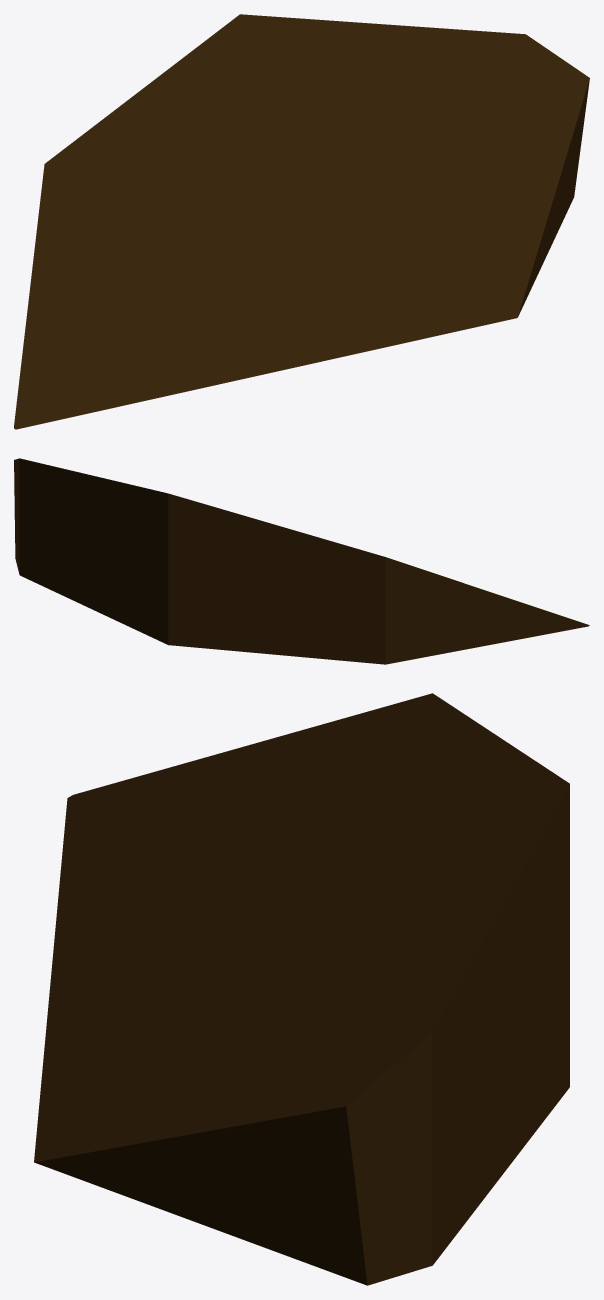
The model's file is Debris8.glb.
3 views of the same model, one above another, from view 1: azimuth 30°, elevation 25°; view 2: azimuth 150°, elevation 25°; view 3: azimuth 270°, elevation 25° (orthographic). The views are drawn at different scales.
Parts seen in each view (by area): view 1: Cylinder_cell.016; view 2: Cylinder_cell.016; view 3: Cylinder_cell.016.
Part boxes in pixels (x1,y1,x2,y2): Cylinder_cell.016: [14, 14, 589, 429]; Cylinder_cell.016: [14, 458, 589, 664]; Cylinder_cell.016: [34, 693, 569, 1285].
Bounding box in the file's own units: 1.83 × 0.5249 × 0.8404.
